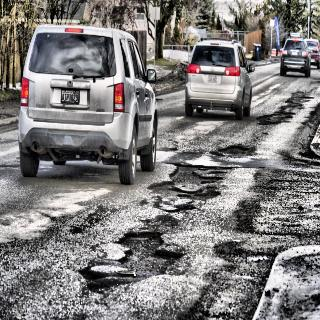pothole: (78, 227, 190, 297), (146, 162, 232, 213), (278, 88, 314, 113), (210, 144, 252, 158), (239, 248, 272, 264), (255, 112, 292, 126), (237, 272, 254, 284)
